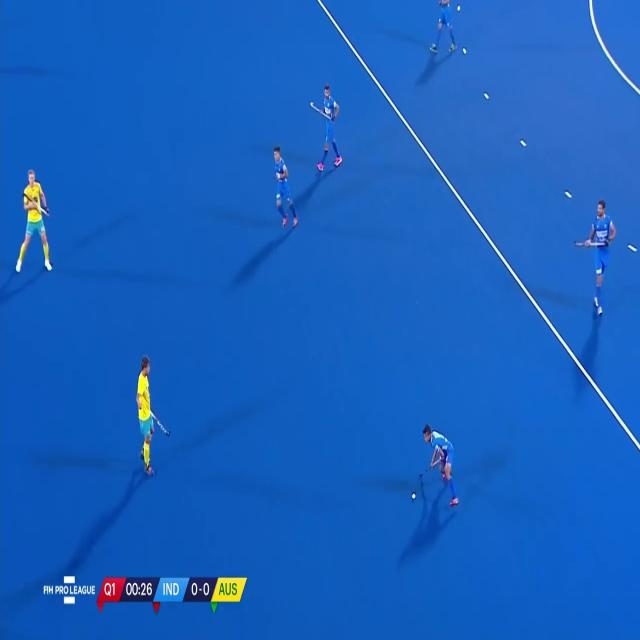ball: (408, 490, 418, 502)
